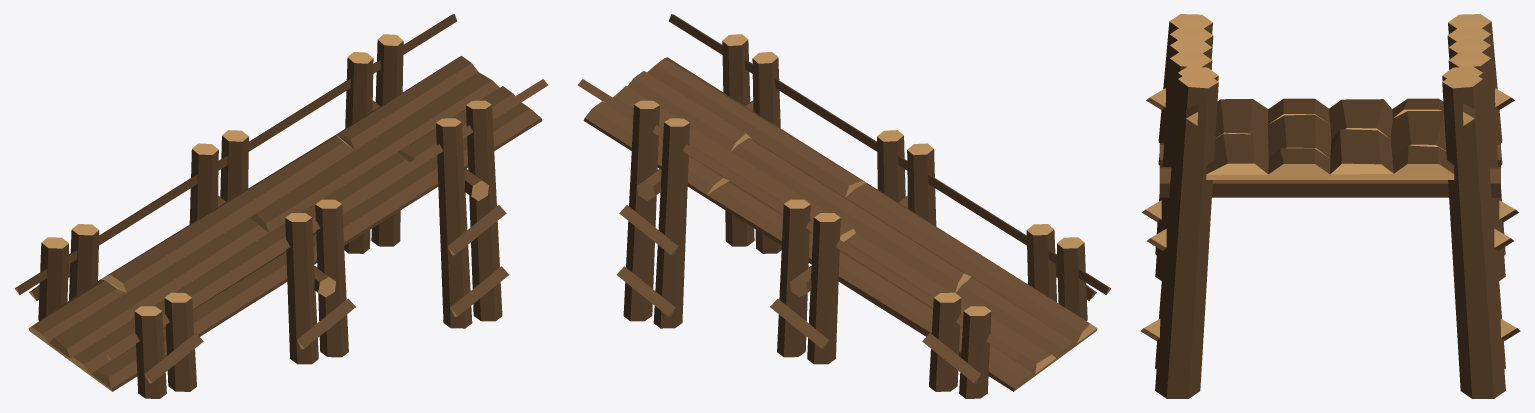
Rendered from tribal-ramp-tribal.glb.
3 views of the same model, side by side, from view 1: azimuth 30°, elevation 25°; view 2: azimuth 150°, elevation 25°; view 3: azimuth 270°, elevation 25° (orthographic). The views are drawn at different scales.
Visible parts, largest first — view 1: SM_Ramp_Tribal; view 2: SM_Ramp_Tribal; view 3: SM_Ramp_Tribal.
Part boxes in pixels (x1=…): SM_Ramp_Tribal: x1=14, y1=14, x2=548, y2=398; SM_Ramp_Tribal: x1=577, y1=14, x2=1111, y2=398; SM_Ramp_Tribal: x1=1140, y1=14, x2=1520, y2=398.
Bounding box in the file's own units: 9.35 × 4.4 × 4.68.
